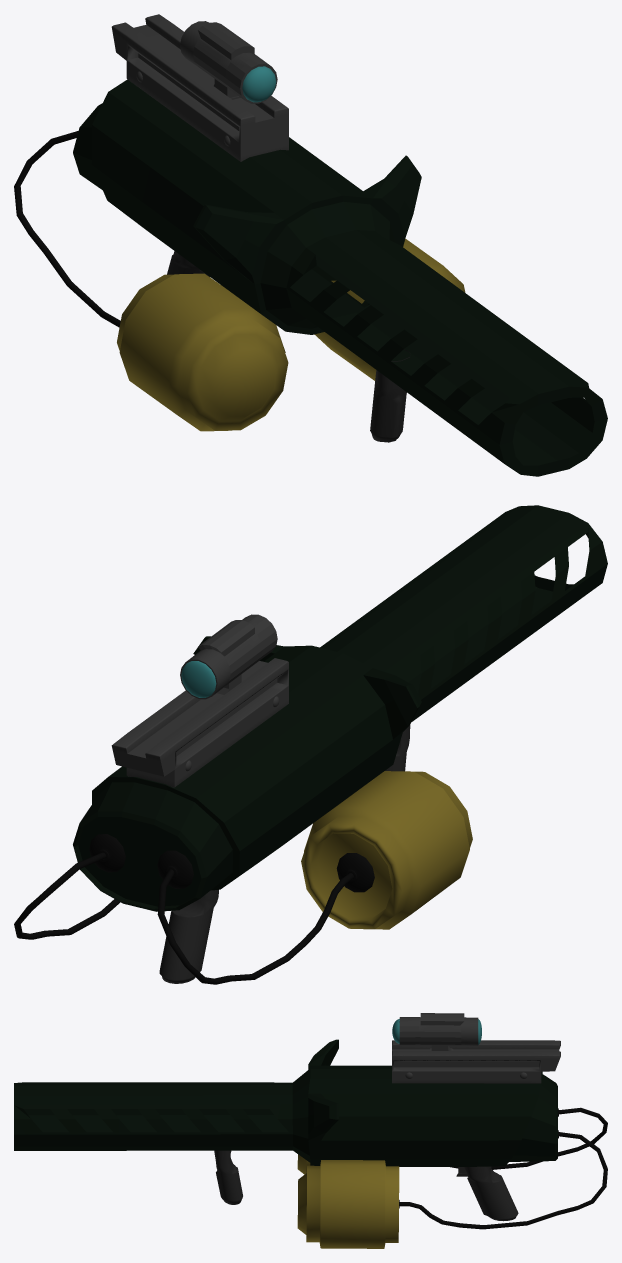
The model's file is lasergun_finaltexturesTEST.obj.
3 renders of one model, top to bottom at view 1: azimuth 30°, elevation 25°; view 2: azimuth 150°, elevation 25°; view 3: azimuth 270°, elevation 25°, orthographic. The views are drawn at different scales.
Visible parts, largest first — view 1: g lasergunext_low_lasergunext_low, g laserbarrel_low_laserbarrel_low, g lasergun_low_lasergun_low, g laserhandle_low_laserhandle_low, g lasertube_low_lasertube_low; view 2: g lasergunext_low_lasergunext_low, g laserbarrel_low_laserbarrel_low, g lasergun_low_lasergun_low, g lasertube_low_lasertube_low, g laserhandle_low_laserhandle_low; view 3: g lasergunext_low_lasergunext_low, g lasergun_low_lasergun_low, g laserbarrel_low_laserbarrel_low, g laserhandle_low_laserhandle_low, g lasertube_low_lasertube_low.
Boxes of the visible parts, x1,y1,x2,y2 form: g lasergunext_low_lasergunext_low: (73,79,607,476); g laserbarrel_low_laserbarrel_low: (117,238,465,431); g lasergun_low_lasergun_low: (111,14,288,161); g laserhandle_low_laserhandle_low: (167,251,410,442); g lasertube_low_lasertube_low: (14,131,120,327); g lasergunext_low_lasergunext_low: (73,505,607,911); g laserbarrel_low_laserbarrel_low: (301,771,472,929); g lasergun_low_lasergun_low: (111,614,288,787); g lasertube_low_lasertube_low: (14,834,374,984); g laserhandle_low_laserhandle_low: (159,724,410,983); g lasergunext_low_lasergunext_low: (14,1039,557,1166); g lasergun_low_lasergun_low: (392,1013,560,1083); g laserbarrel_low_laserbarrel_low: (297,1154,399,1248); g laserhandle_low_laserhandle_low: (214,1150,518,1221); g lasertube_low_lasertube_low: (399,1107,607,1229).
Size of the model in its own units: 16.07 by 15.74 by 41.88.
